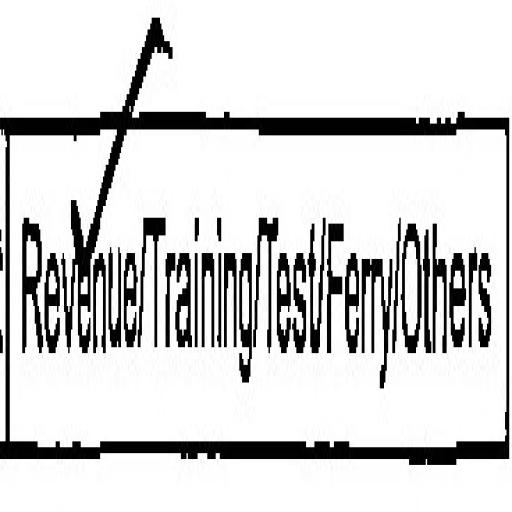check: (0, 0, 142, 484)
